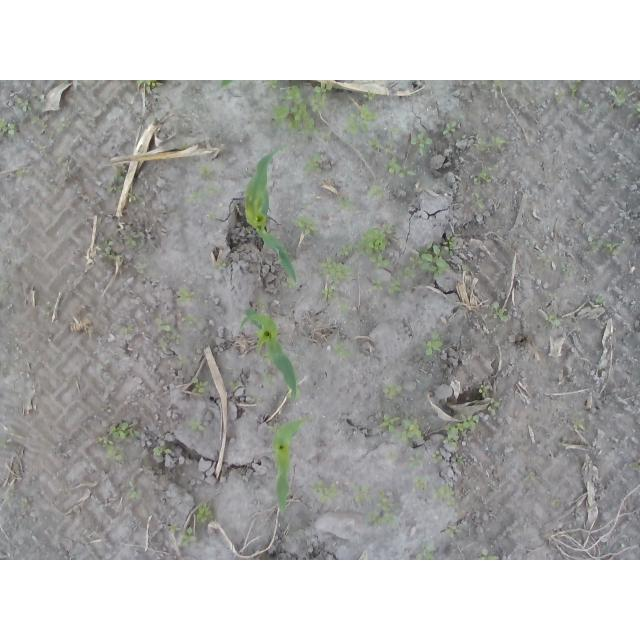Maize: (242, 147, 298, 286), (240, 310, 300, 401), (272, 417, 304, 508)
Weeds: (271, 80, 333, 137), (398, 236, 455, 281), (96, 420, 141, 465), (356, 223, 396, 270), (319, 257, 353, 300), (367, 484, 401, 526), (151, 312, 185, 353), (383, 414, 425, 444), (443, 414, 481, 447), (608, 85, 640, 120), (584, 231, 627, 257), (344, 105, 379, 135), (191, 495, 216, 528), (291, 211, 322, 237), (432, 480, 459, 508), (310, 477, 338, 504), (166, 523, 198, 545), (473, 136, 512, 153), (383, 159, 417, 178), (411, 132, 433, 160), (125, 80, 161, 96), (107, 165, 129, 191), (302, 151, 323, 175), (424, 334, 445, 358), (385, 127, 404, 153), (469, 167, 495, 186), (406, 447, 427, 469), (127, 478, 145, 502), (192, 163, 215, 181), (492, 300, 512, 320), (382, 382, 402, 401), (416, 542, 437, 560), (174, 286, 195, 304), (124, 230, 145, 248), (332, 341, 353, 359), (112, 323, 137, 338), (385, 273, 401, 296), (15, 95, 34, 114), (352, 484, 370, 504), (189, 375, 209, 393), (30, 115, 50, 133), (153, 441, 175, 457), (570, 408, 586, 430), (335, 191, 353, 210), (182, 312, 203, 327), (413, 474, 431, 491), (97, 240, 115, 257), (576, 94, 592, 113), (0, 119, 16, 138), (335, 242, 354, 258), (544, 313, 561, 330), (367, 185, 384, 202), (55, 157, 74, 172), (368, 136, 383, 154), (443, 119, 458, 137), (487, 398, 502, 416), (566, 80, 582, 96), (191, 419, 208, 434), (255, 295, 269, 313), (478, 548, 498, 560), (226, 376, 242, 391), (448, 525, 465, 539), (134, 255, 147, 273), (216, 81, 237, 92), (99, 399, 114, 414), (0, 435, 16, 448), (21, 495, 33, 512), (191, 191, 209, 202), (15, 167, 33, 178), (370, 278, 385, 291), (261, 370, 273, 386), (207, 183, 226, 193), (363, 90, 377, 103), (431, 449, 444, 463), (126, 189, 136, 207), (559, 263, 575, 274), (608, 173, 624, 184), (336, 303, 352, 314), (281, 275, 293, 289), (5, 487, 16, 502), (262, 80, 280, 89), (216, 259, 228, 270), (192, 343, 204, 354), (266, 423, 279, 433), (279, 498, 289, 511), (479, 384, 489, 397), (206, 211, 217, 221), (551, 497, 562, 507), (261, 352, 271, 363), (478, 196, 487, 208), (595, 294, 605, 304), (527, 471, 537, 481), (38, 144, 48, 153), (0, 286, 8, 297), (256, 397, 264, 408), (630, 462, 640, 470), (76, 80, 81, 96), (244, 307, 256, 313), (179, 144, 189, 150), (155, 126, 162, 134), (255, 329, 262, 335), (63, 80, 69, 85)
